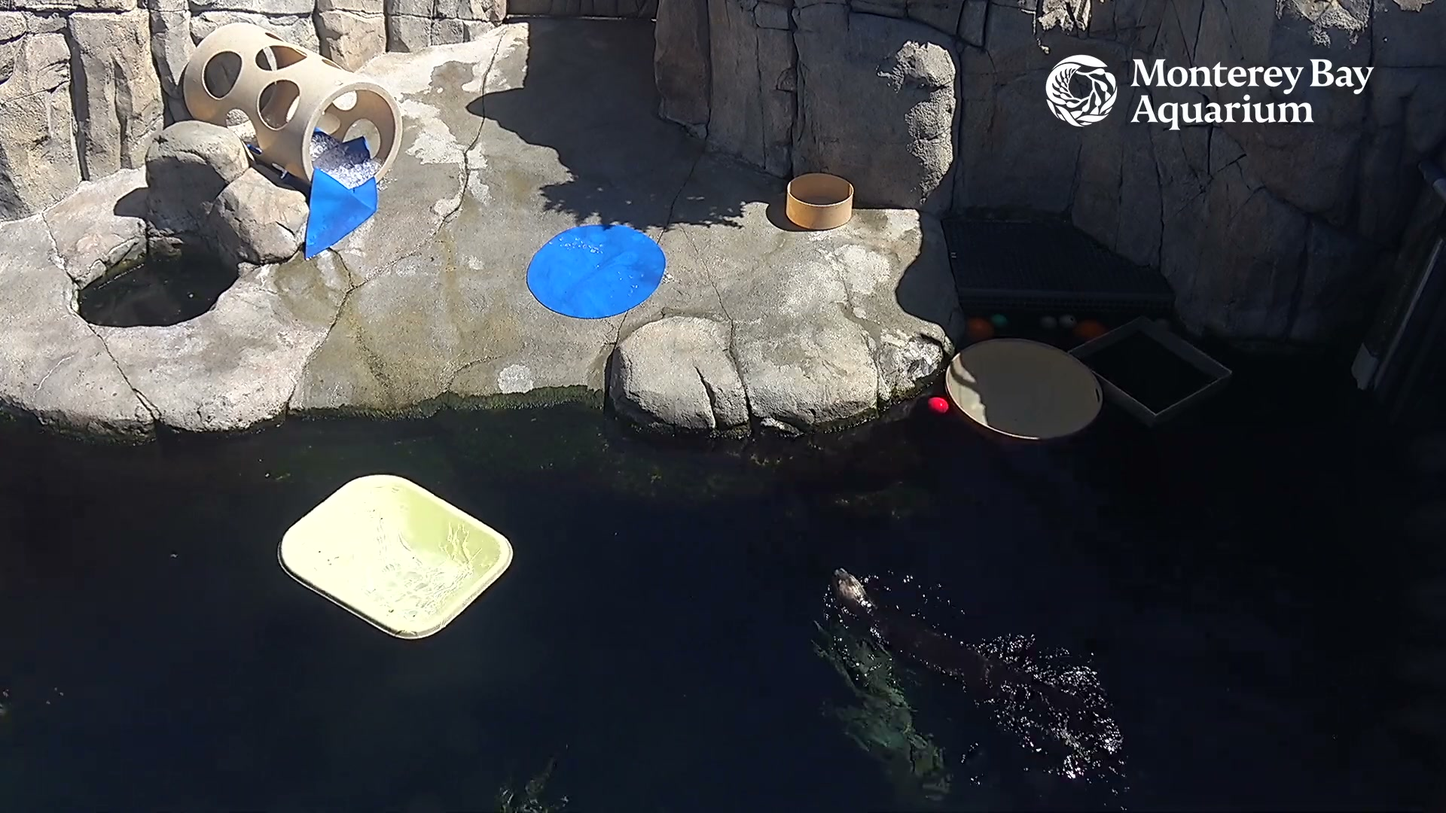Southern Sea Otter: (798, 529, 1158, 796)
